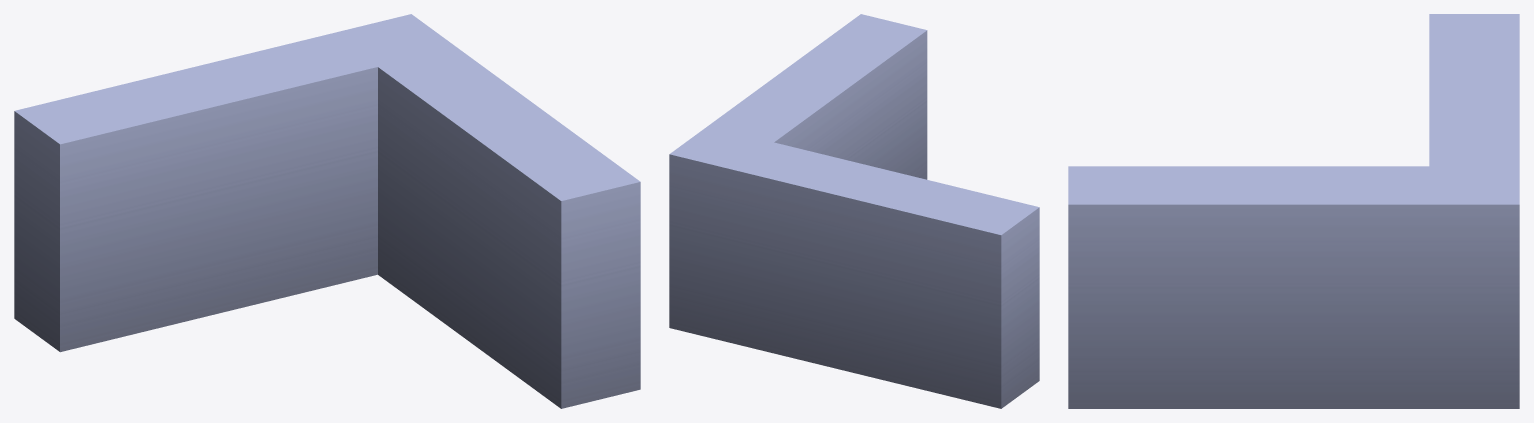
Rendered from wall-corner-low.fbx.
3 renders of one model, left to right at view 1: azimuth 30°, elevation 25°; view 2: azimuth 150°, elevation 25°; view 3: azimuth 270°, elevation 25°, orthographic. The views are drawn at different scales.
Visible parts, largest first — view 1: wall-corner-low; view 2: wall-corner-low; view 3: wall-corner-low.
Boxes of the visible parts, <box> form: wall-corner-low: <box>14,14,640,408</box>; wall-corner-low: <box>669,14,1039,408</box>; wall-corner-low: <box>1068,14,1519,408</box>.
Size of the model in its own units: 100 by 50 by 100.
